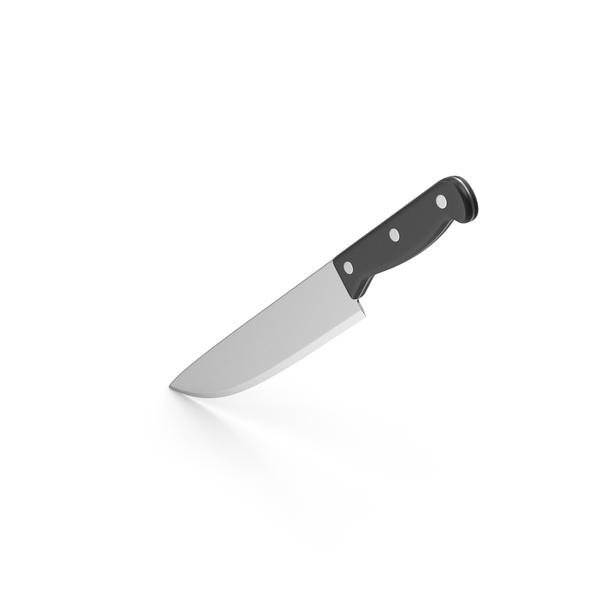Knife: (168, 174, 478, 399)
